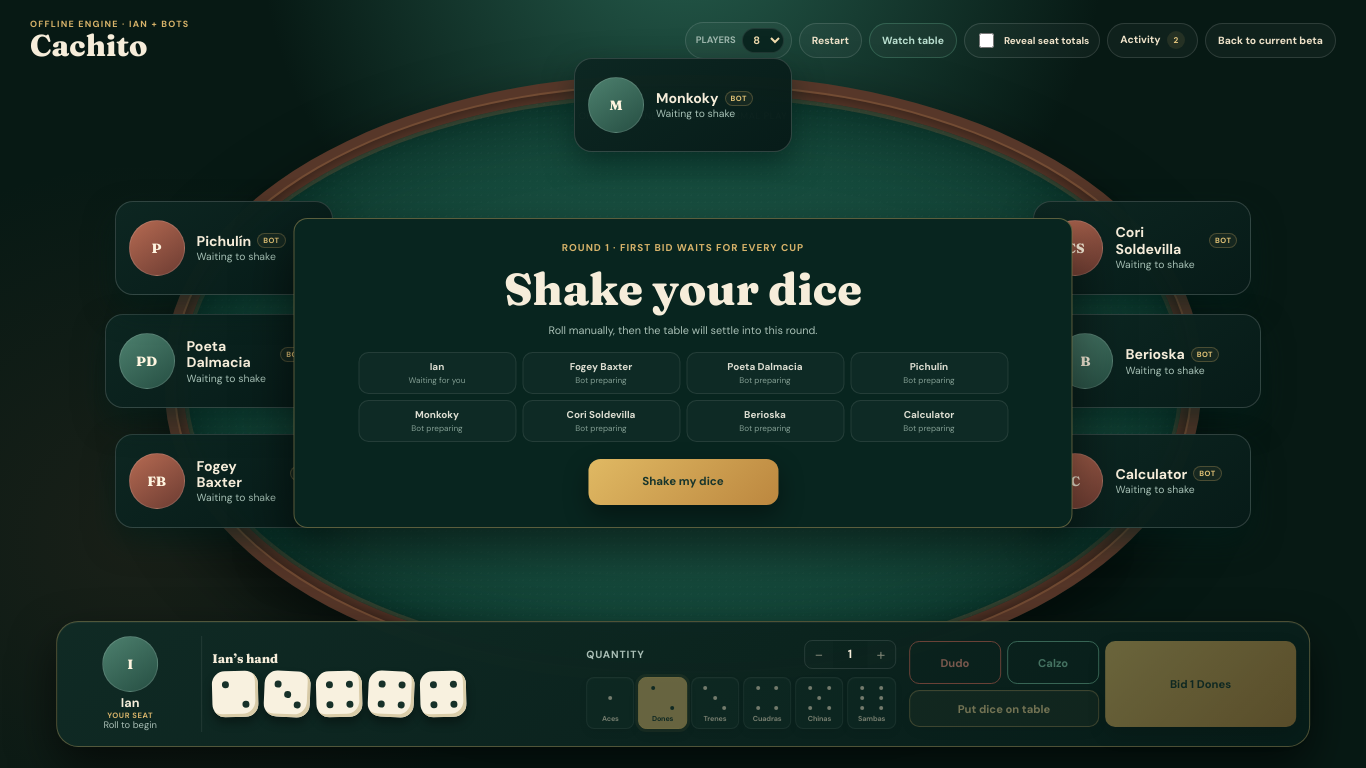
Test case: TablePrototype › restarts real offline games from two through eight players
The width and height of the screenshot is (1366, 768).
Select "2" in the dropdown named "Offline players": (763, 40) [742,28,784,52]
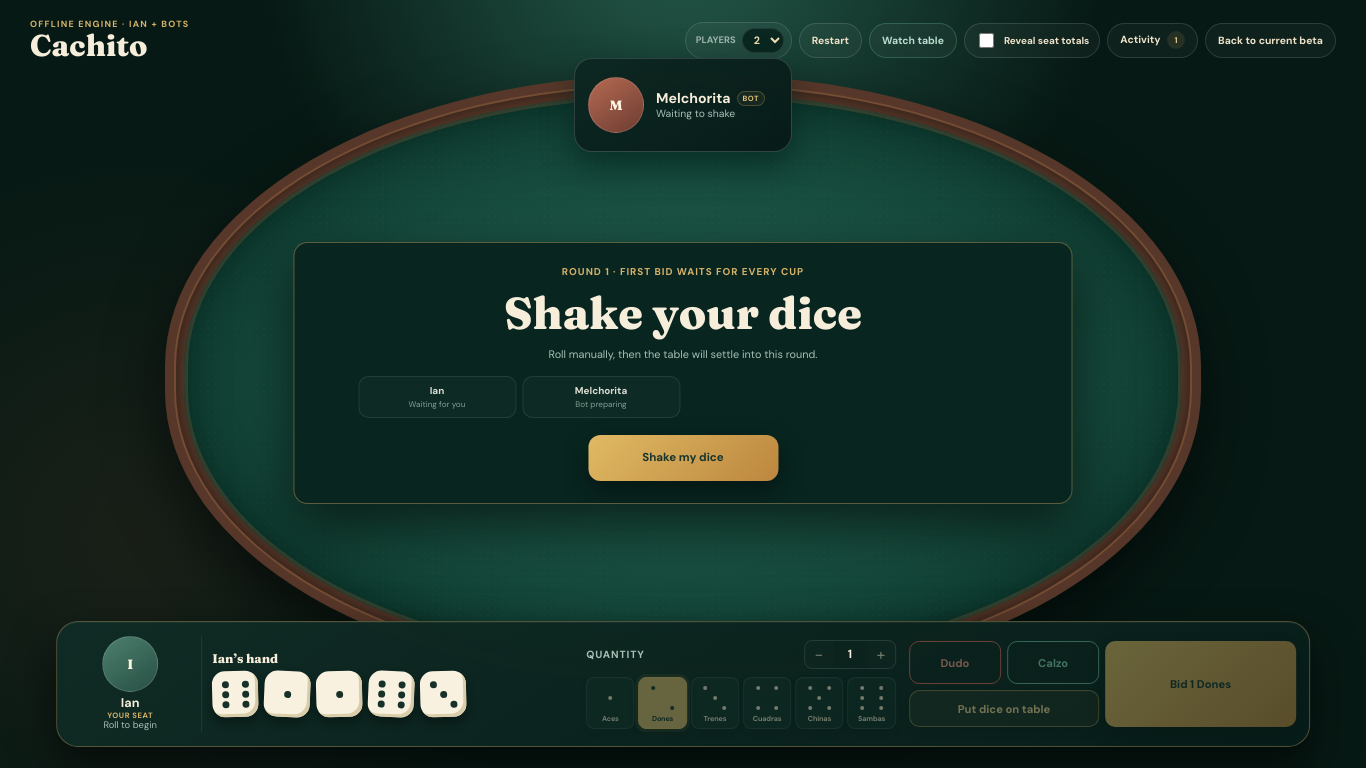
Expected: the element named "2-player offline table" is shown
Expected: the element named "10 dice in play; no dice lost" is shown, [363,318,609,428]
Select "8" in the dropdown named "Offline players": (763, 40) [742,28,784,52]
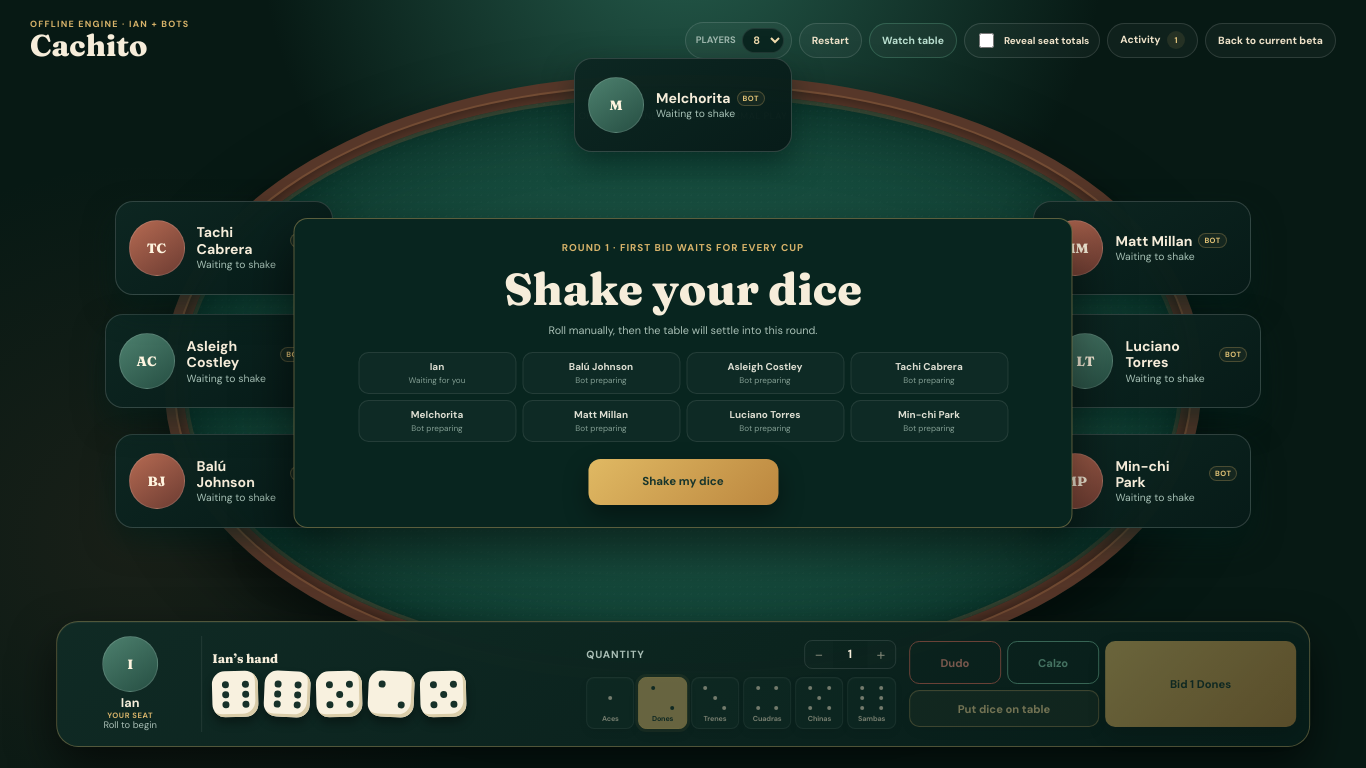
Expected: the element named "8-player offline table" is shown
